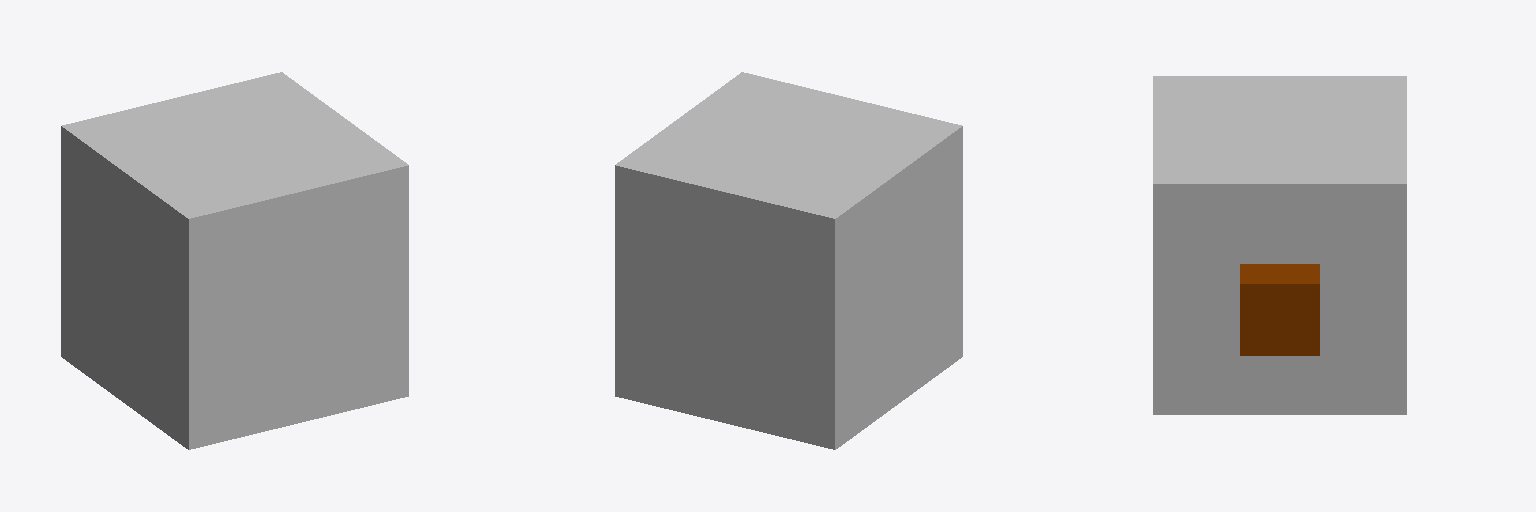
3 views of the same model, side by side, from view 1: azimuth 30°, elevation 25°; view 2: azimuth 150°, elevation 25°; view 3: azimuth 270°, elevation 25° (orthographic).
Parts seen in each view (by area): view 1: Cube.001; view 2: Cube.001; view 3: Cube.001.
Part boxes in pixels (bbox=[...]): Cube.001: bbox=[61, 72, 408, 449]; Cube.001: bbox=[615, 72, 962, 449]; Cube.001: bbox=[1153, 76, 1406, 414].
Bounding box in the file's own units: 0.9509 × 0.8 × 0.8.
Materials: 2 (1 with a texture image).